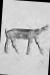F26: (2, 0, 48, 74)
